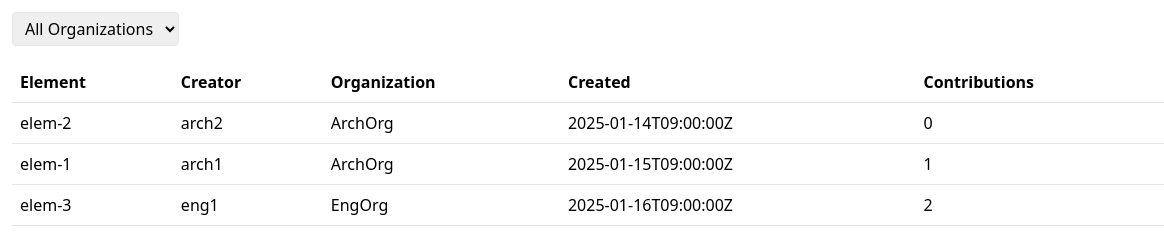
it: IPReport › filters by organization
This screenshot has width=1164, height=243.
Select "EngOrg" in the dropdown named "Filter by organization" at x=96, y=29, box [12,12,179,46]
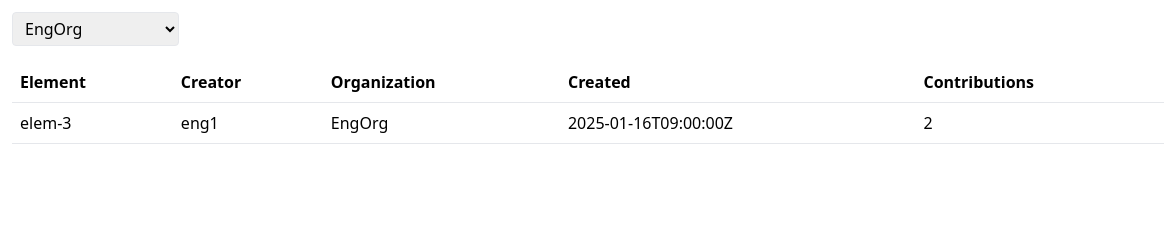
Expected: the text "elem-3" is shown, [12,102,173,144]
Expected: the text "elem-1" is gone
